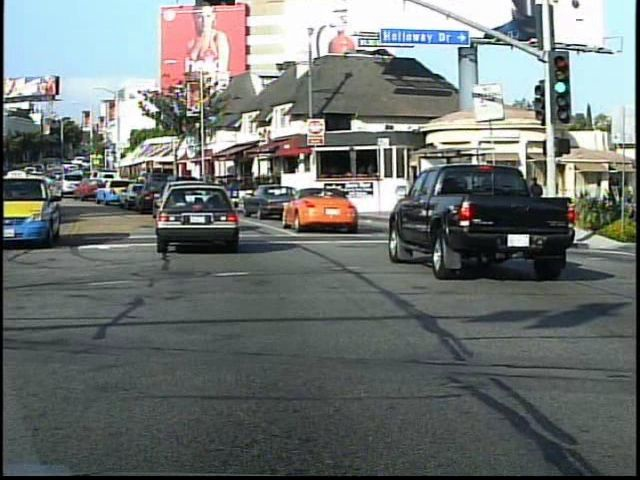person: (600, 179, 622, 258)
